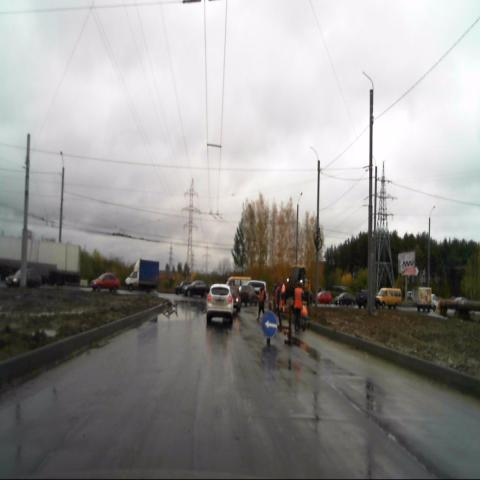4_1_2_2: (261, 309, 277, 340)
